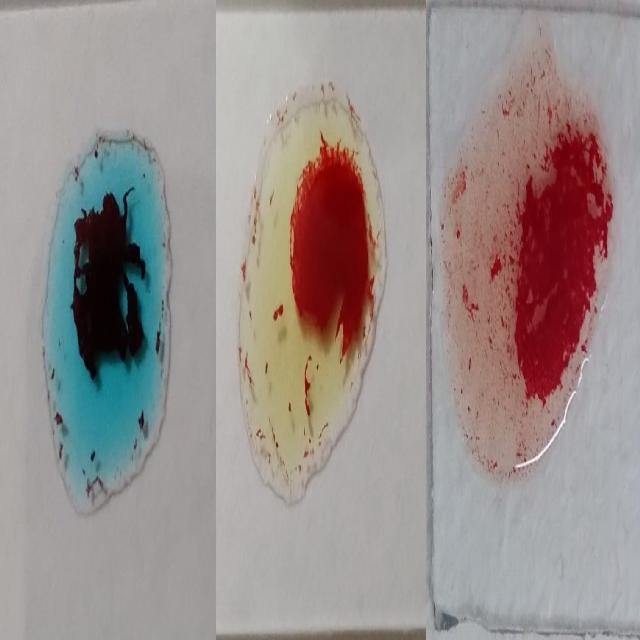A: (43, 120, 172, 512)
B: (237, 72, 381, 512)
D: (454, 45, 615, 499)
